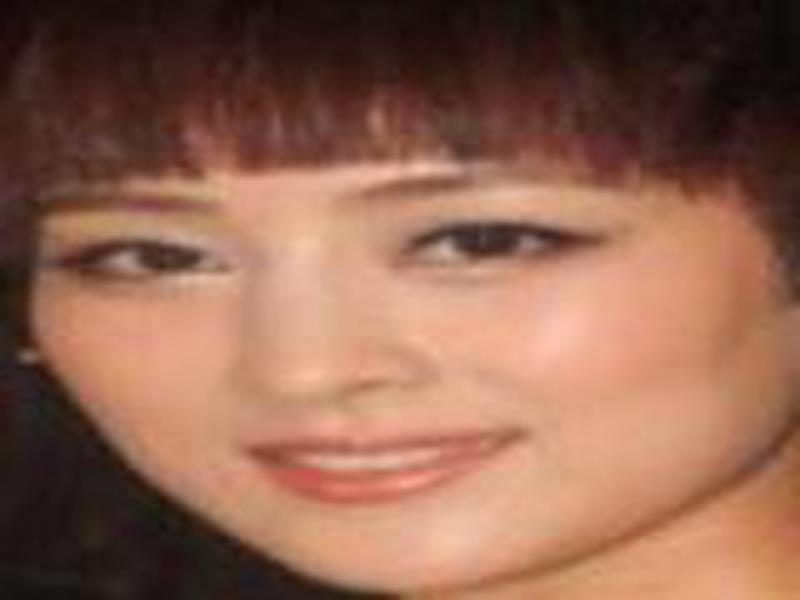without_mask: (31, 123, 793, 593)
